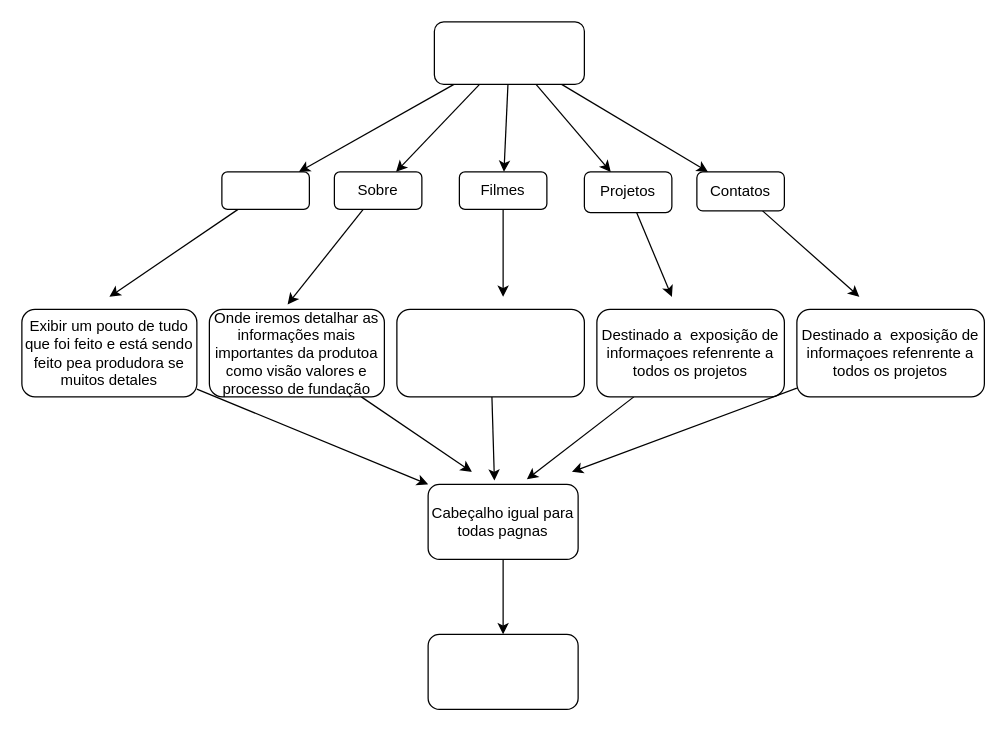
The diagram is 1006 pixels wide and 731 high, and some of its shapes have lost their labels. Each missing label, with the centre of its shape:
"Destinado a exposição de informaçoes refenrente oas filmes produsidos." goes at pixel 490 352.
"Eparrei Filmes" goes at pixel 508 52.
"Home" goes at pixel 265 190.
"O mesmo se aplica para o rodape do site" goes at pixel 502 671.
